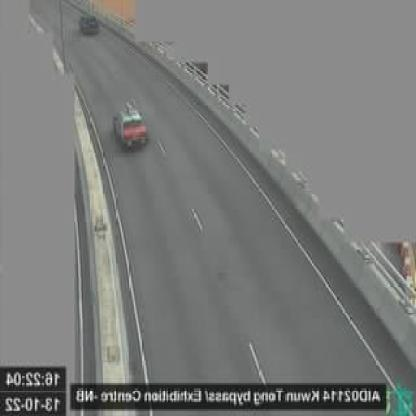Car: (112, 106, 148, 150), (78, 13, 99, 35)
